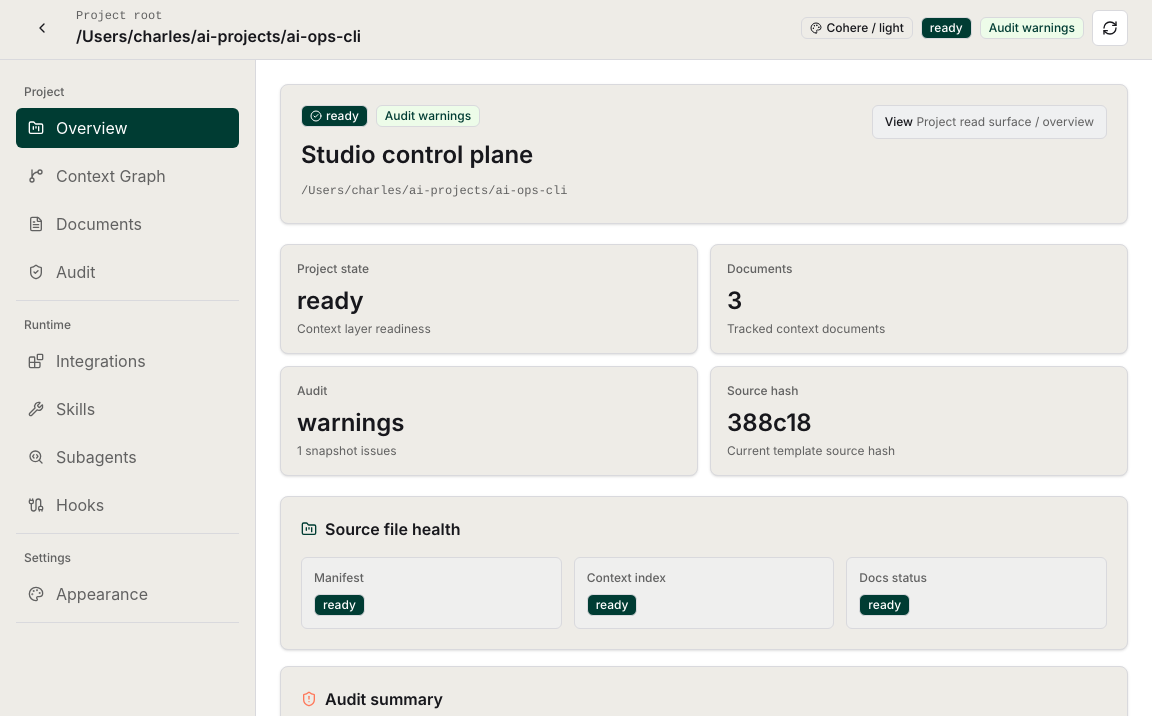
Test case: App shell › renders known Hook installed state with related integrations
Click the button "Hooks" at (128, 505), box [16,485,239,525]
(page scrolled)
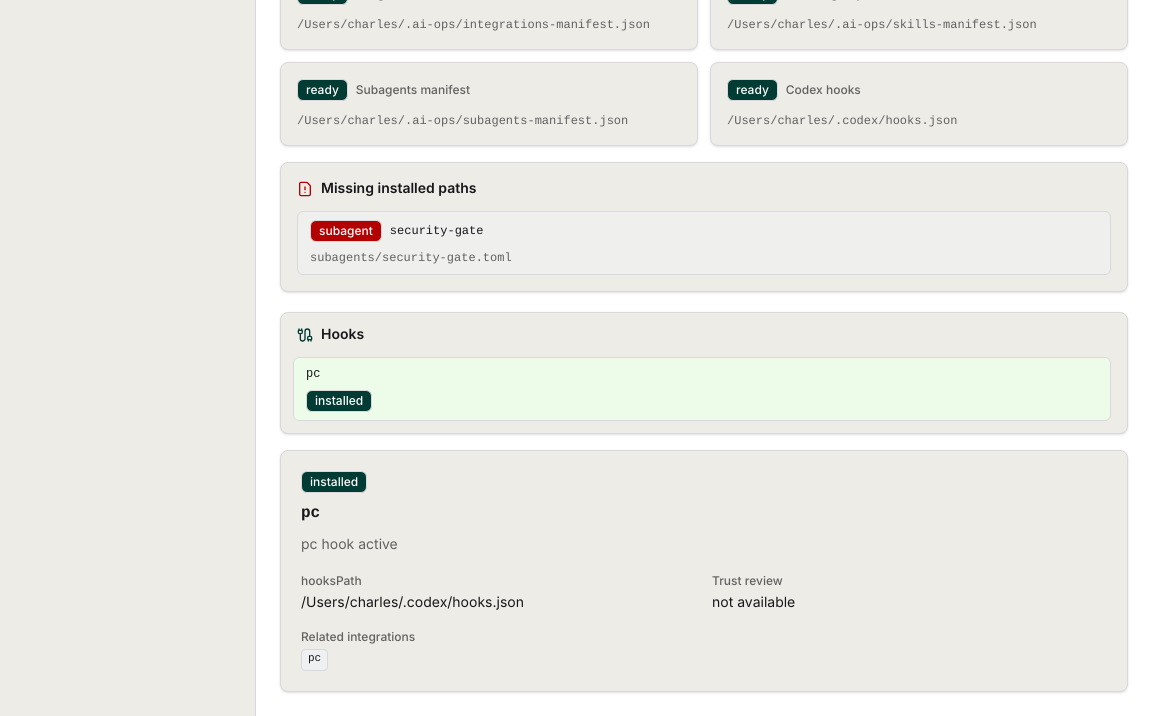
Expected: the text "pc hook active" is shown, [301,536,398,553]
Expected: the 1st text "pc" is shown, [306,367,320,381]
